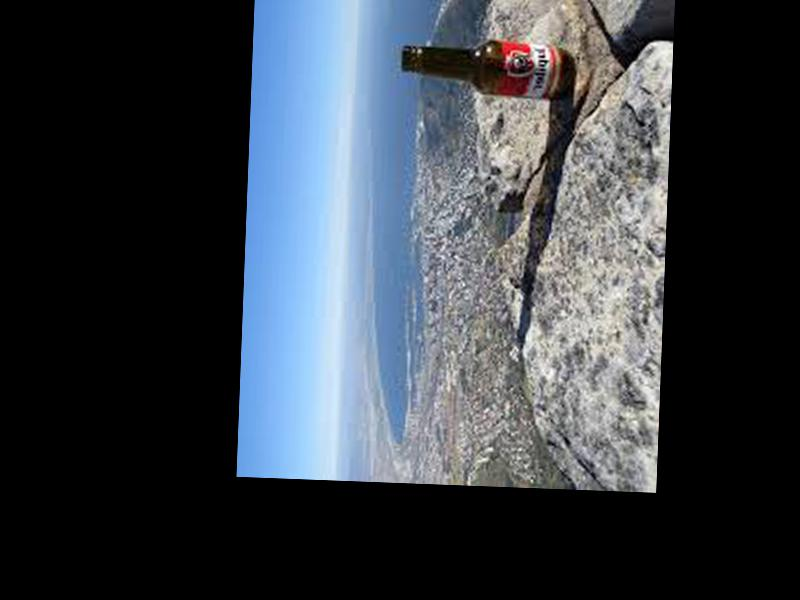Beer: (398, 35, 569, 100)
